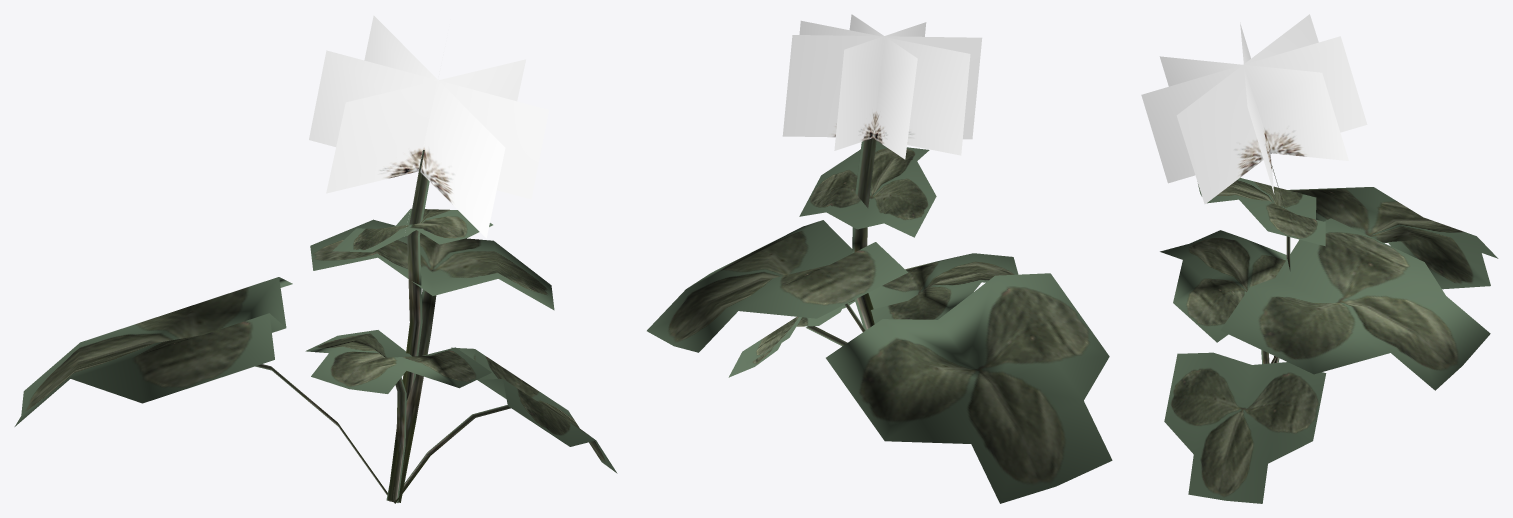
File: RoseyFlower.fbx
The picture shows the model from 3 angles, left to right: view 1: azimuth 30°, elevation 25°; view 2: azimuth 150°, elevation 25°; view 3: azimuth 270°, elevation 25°; orthographic projection. The views are drawn at different scales.
Visible parts, largest first — view 1: RoseyFlower; view 2: RoseyFlower; view 3: RoseyFlower.
Boxes of the visible parts, x1,y1,x2,y2 form: RoseyFlower: [14, 15, 617, 503]; RoseyFlower: [647, 14, 1112, 503]; RoseyFlower: [1141, 14, 1498, 503].
Size of the model in its own units: 3.97 by 3.4 by 2.74.
